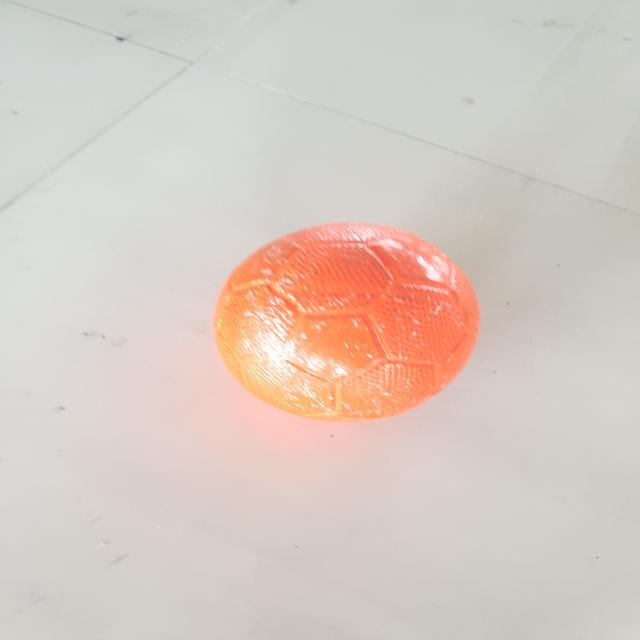bola: (212, 220, 489, 433)
